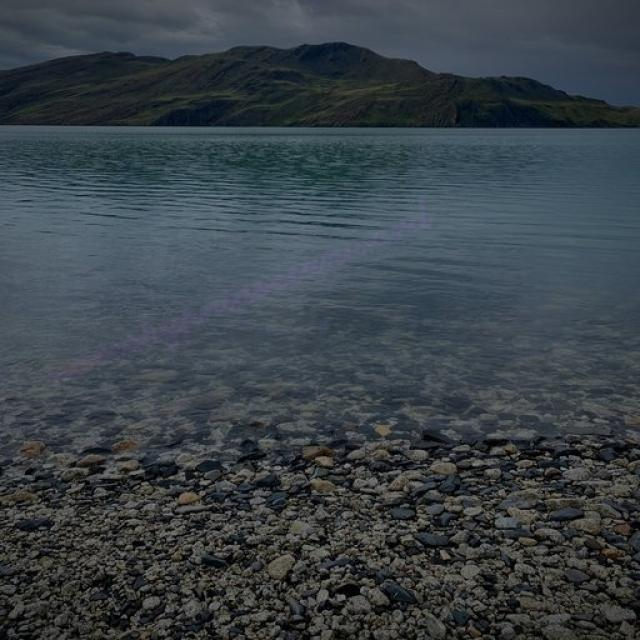watermark: (41, 191, 433, 393)
